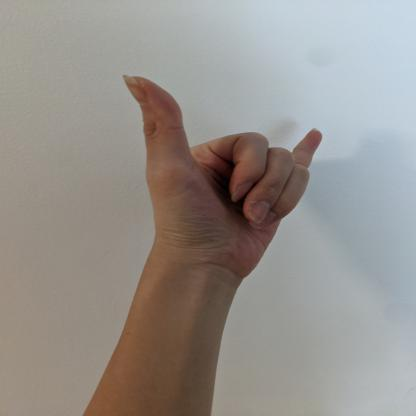Y: (119, 71, 326, 279)
